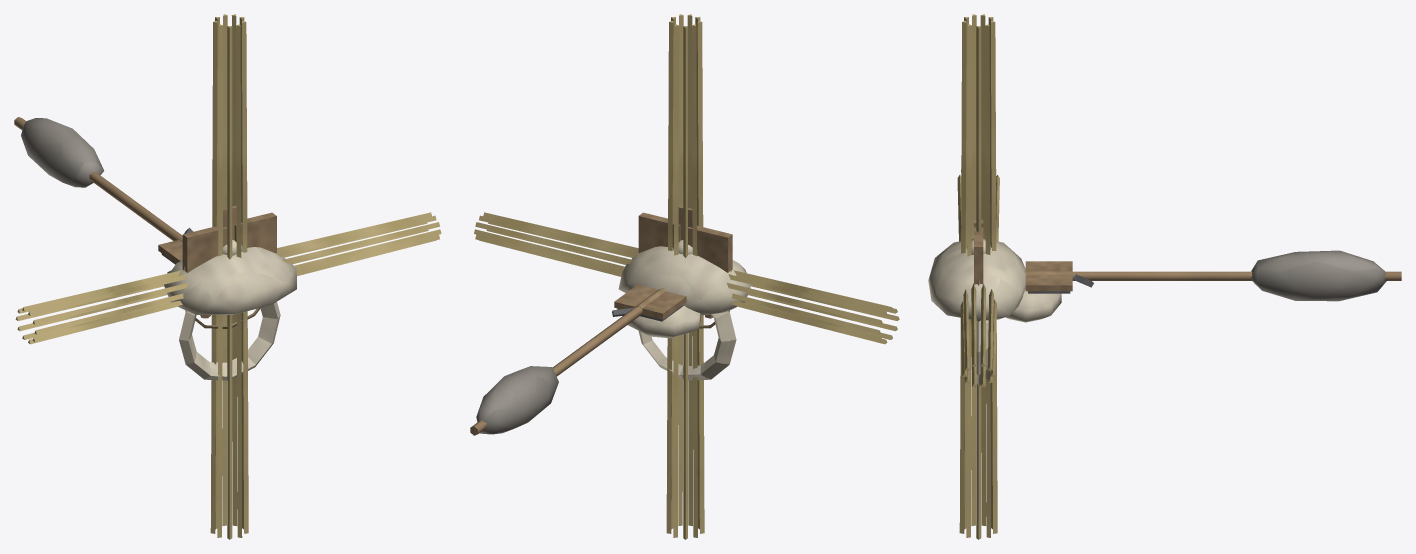
File: crowd-props-textile-v1.glb
3 renders of one model, left to right at view 1: azimuth 30°, elevation 25°; view 2: azimuth 150°, elevation 25°; view 3: azimuth 270°, elevation 25°, orthographic.
Parts seen in each view (by area): view 1: prop_osier_bundle, prop_osier_armful, prop_linen_bundle, prop_distaff, prop_carding_combs, prop_rope_coil; view 2: prop_osier_bundle, prop_osier_armful, prop_linen_bundle, prop_distaff, prop_carding_combs, prop_rope_coil, prop_net_shuttle, prop_carding_combs_left; view 3: prop_osier_bundle, prop_distaff, prop_linen_bundle, prop_osier_armful, prop_carding_combs_left, prop_net_shuttle, prop_carding_combs.
Part boxes in pixels (x1,y1,x2,y2): prop_osier_bundle: (210,14,248,539); prop_osier_armful: (15,212,441,344); prop_linen_bundle: (164,240,296,328); prop_distaff: (14,117,182,240); prop_carding_combs: (182,212,276,318); prop_rope_coil: (179,302,280,380); prop_osier_bundle: (666,14,704,539); prop_osier_armful: (474,212,899,344); prop_linen_bundle: (618,240,750,328); prop_distaff: (470,306,642,435); prop_carding_combs: (638,212,732,318); prop_rope_coil: (638,311,736,380); prop_net_shuttle: (628,205,700,338); prop_carding_combs_left: (614,284,686,321); prop_osier_bundle: (959,14,997,539); prop_distaff: (1072,250,1401,301); prop_linen_bundle: (928,238,1025,322); prop_osier_armful: (957,169,999,386); prop_carding_combs_left: (1024,261,1072,293); prop_net_shuttle: (1005,289,1061,322); prop_carding_combs: (974,219,983,284).
Size of the model in its own units: 1 by 1.2 by 1.01.
1 material, 1 textured.
